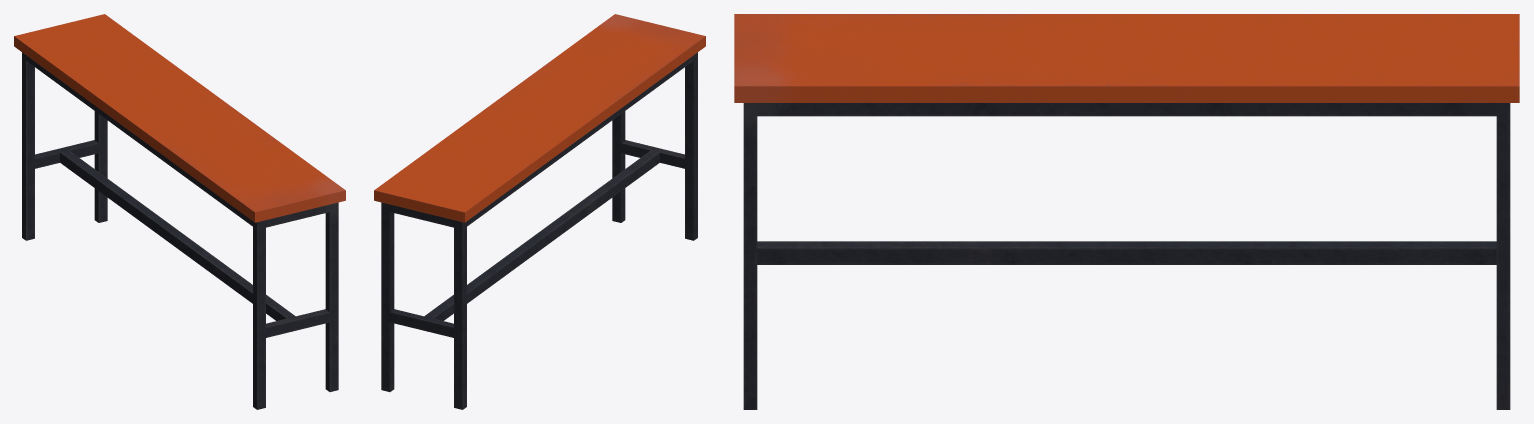
The model's file is Sidetable.fbx.
3 views of the same model, side by side, from view 1: azimuth 30°, elevation 25°; view 2: azimuth 150°, elevation 25°; view 3: azimuth 270°, elevation 25° (orthographic). The views are drawn at different scales.
Visible parts, largest first — view 1: Sidetable; view 2: Sidetable; view 3: Sidetable.
Boxes of the visible parts, x1,y1,x2,y2 form: Sidetable: [14, 14, 345, 409]; Sidetable: [374, 14, 705, 409]; Sidetable: [734, 14, 1519, 409].
Bounding box in the file's own units: 47.31 × 99.94 × 217.
